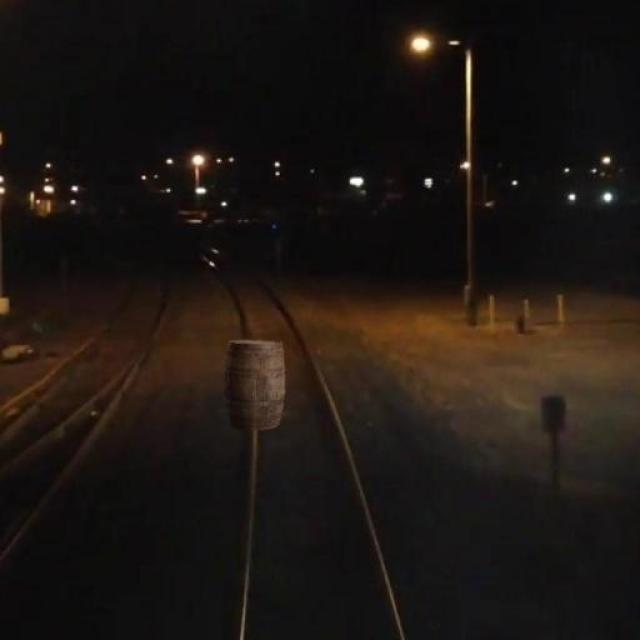Other_objects: (220, 332, 298, 443)
